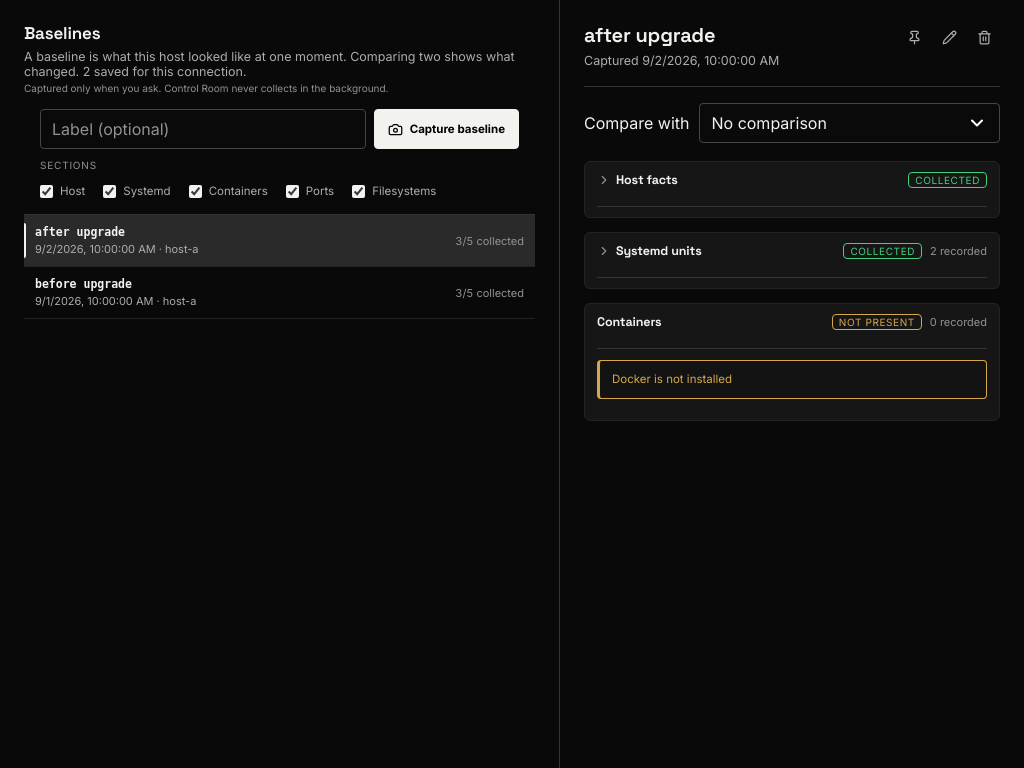
baselines pane › ignores a comparison that finishes after No comparison is selected
This screenshot has width=1024, height=768.
Select "before upgrade" in the dropdown at (850, 123), box [700, 103, 1000, 143]
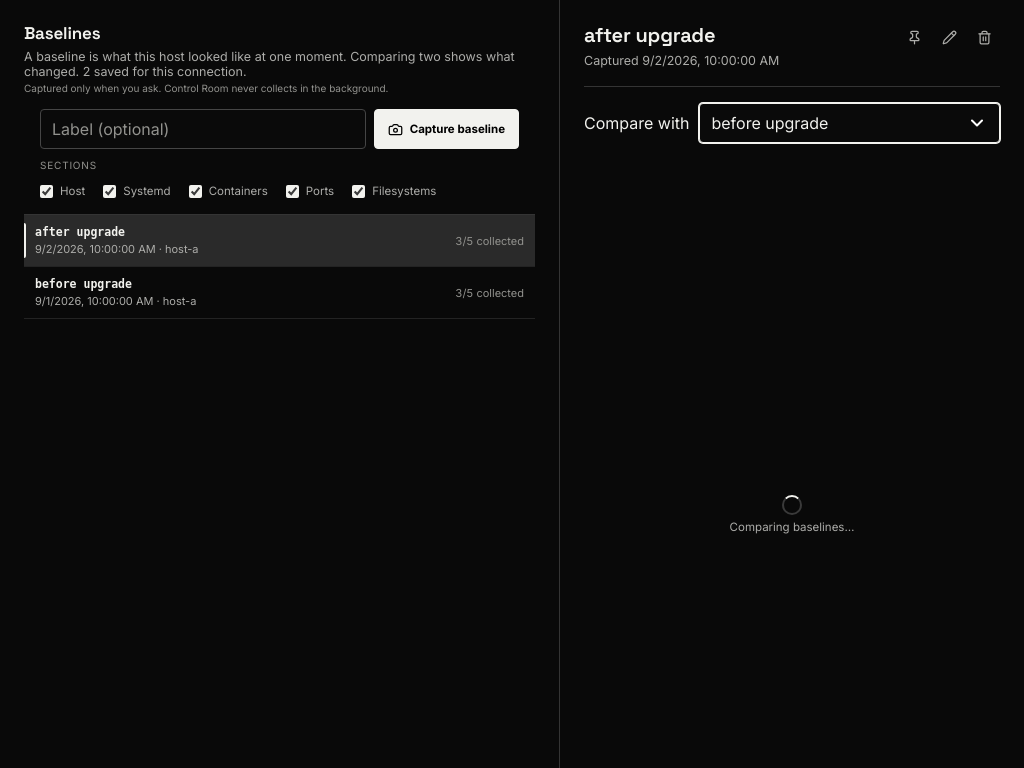
Select "No comparison" in the dropdown at (850, 123), box [700, 103, 1000, 143]
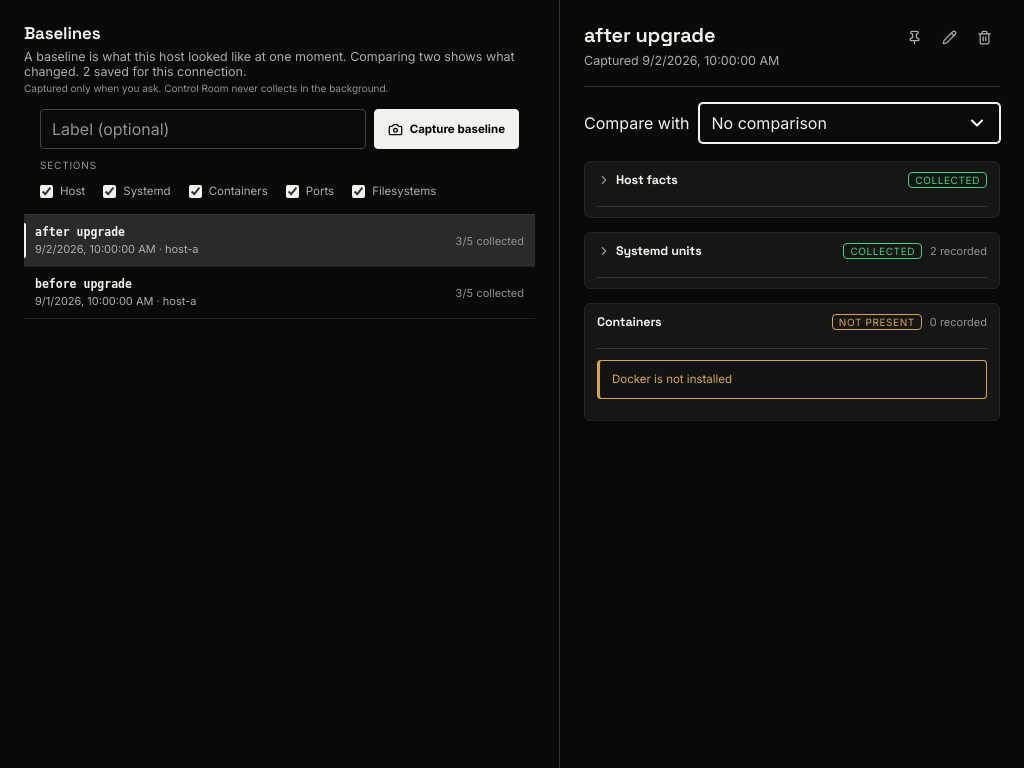
Expected: the text "Comparing baselines…" is gone
